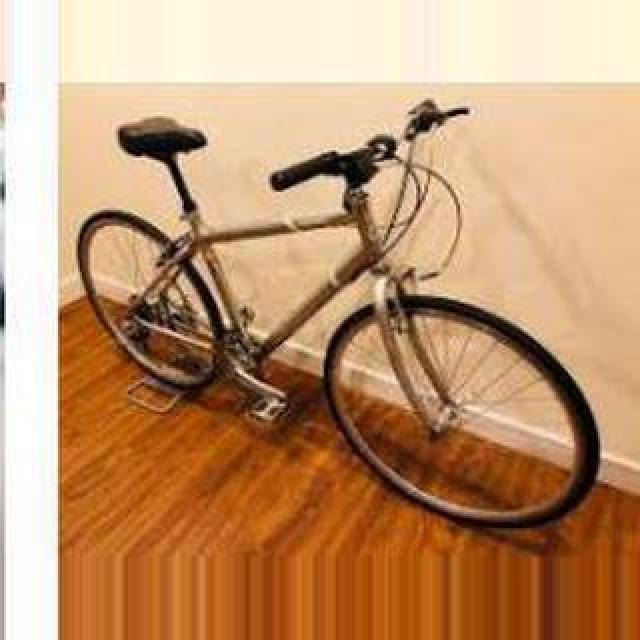Person: (71, 93, 603, 531)
